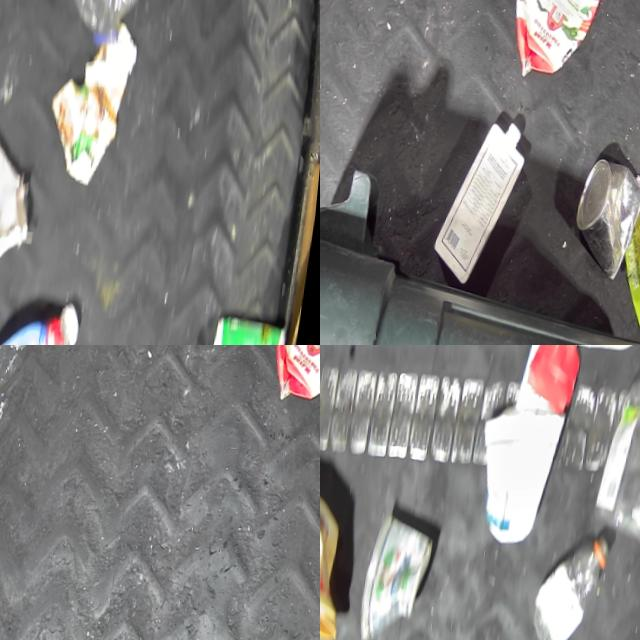can: (573, 157, 640, 279)
milk_jug: (434, 113, 534, 288)
non_white_jug: (505, 0, 618, 82), (320, 465, 368, 640), (266, 345, 320, 410)
plastic_bottle: (538, 523, 626, 640), (48, 0, 156, 47)
